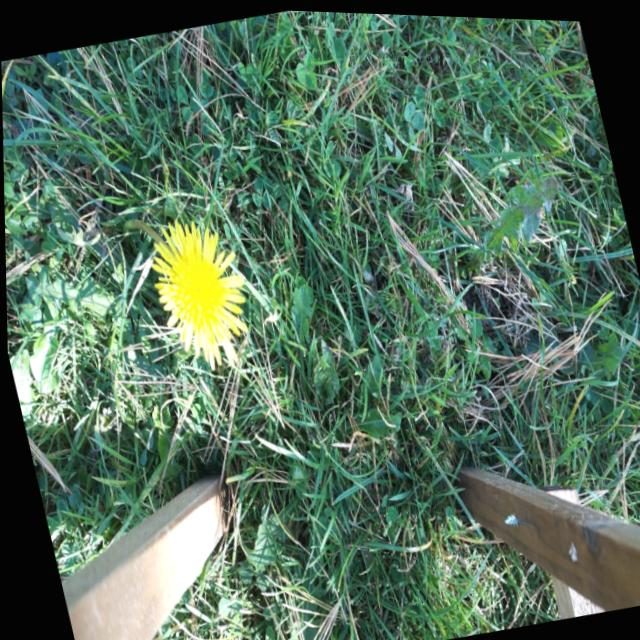base: (111, 219, 134, 250)
